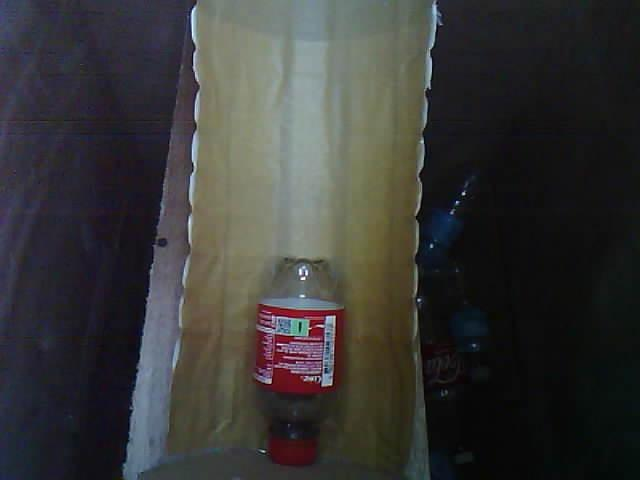small_bottle: (225, 241, 361, 480)
